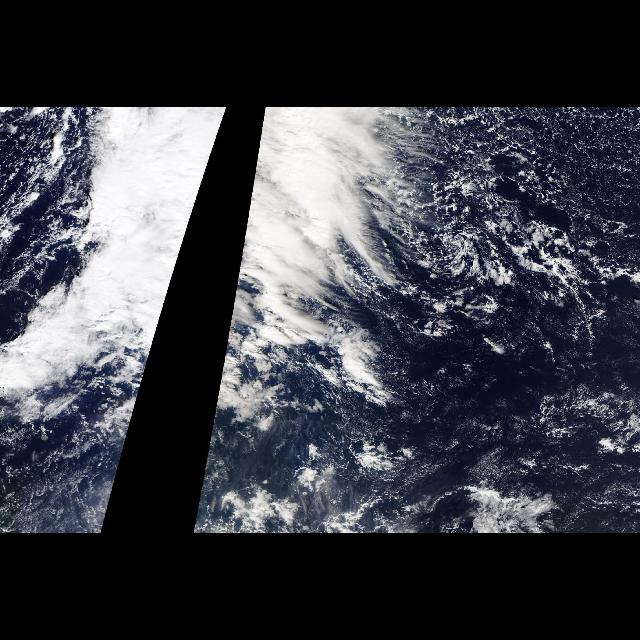Gravel: (378, 107, 640, 359), (226, 434, 408, 534)
